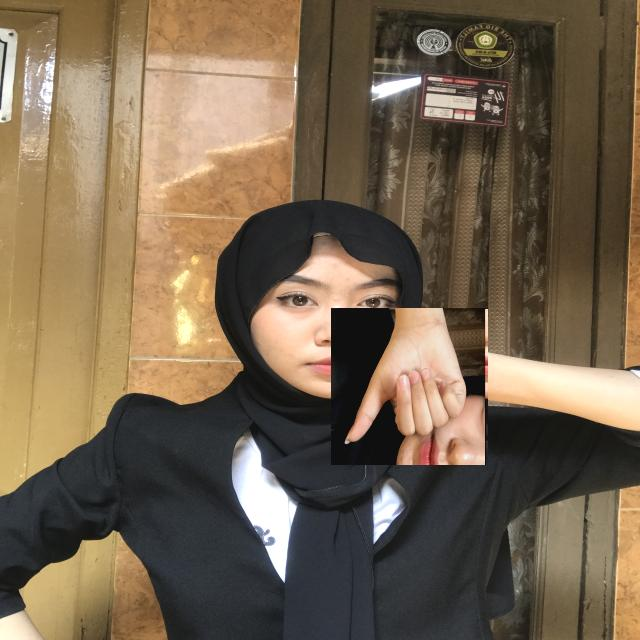sedih: (332, 308, 488, 465)
